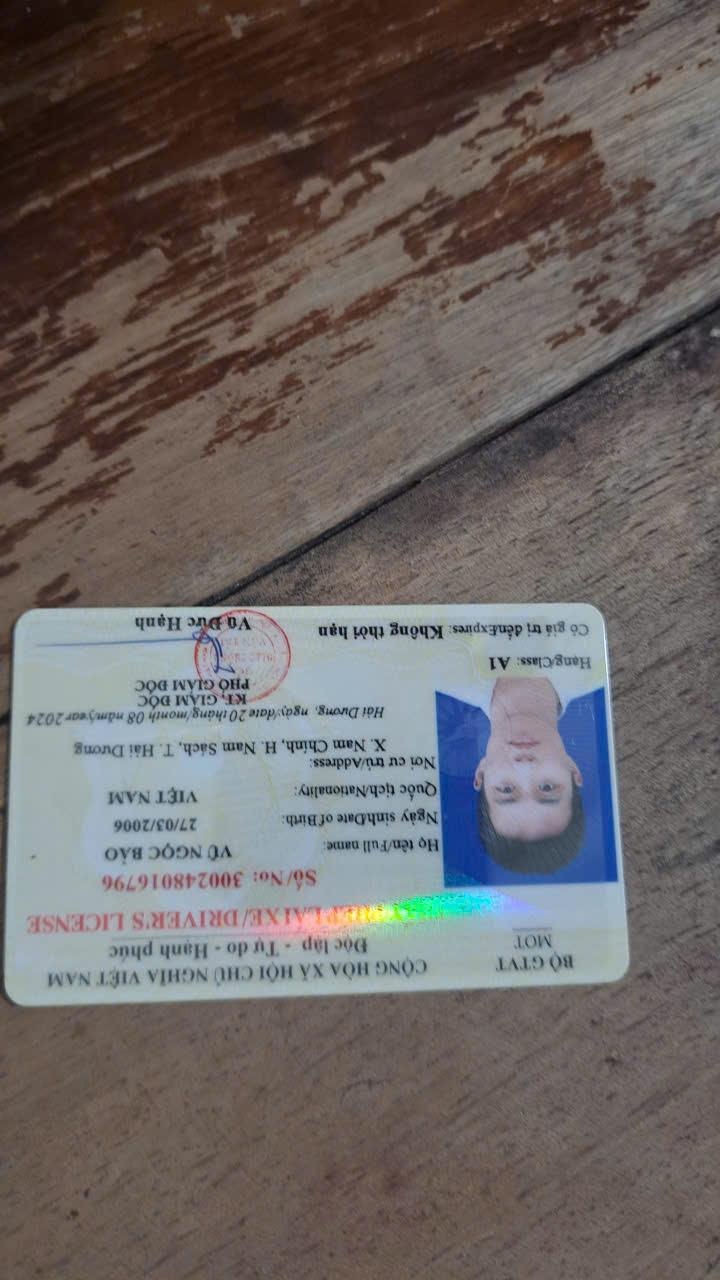gplx: (0, 599, 636, 1012)
